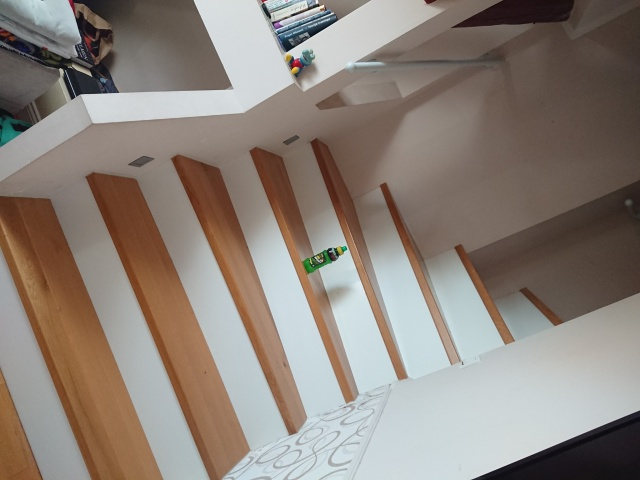Vindi Iso Sport Lemon-Grapefruit 500mL: (301, 244, 348, 274)
